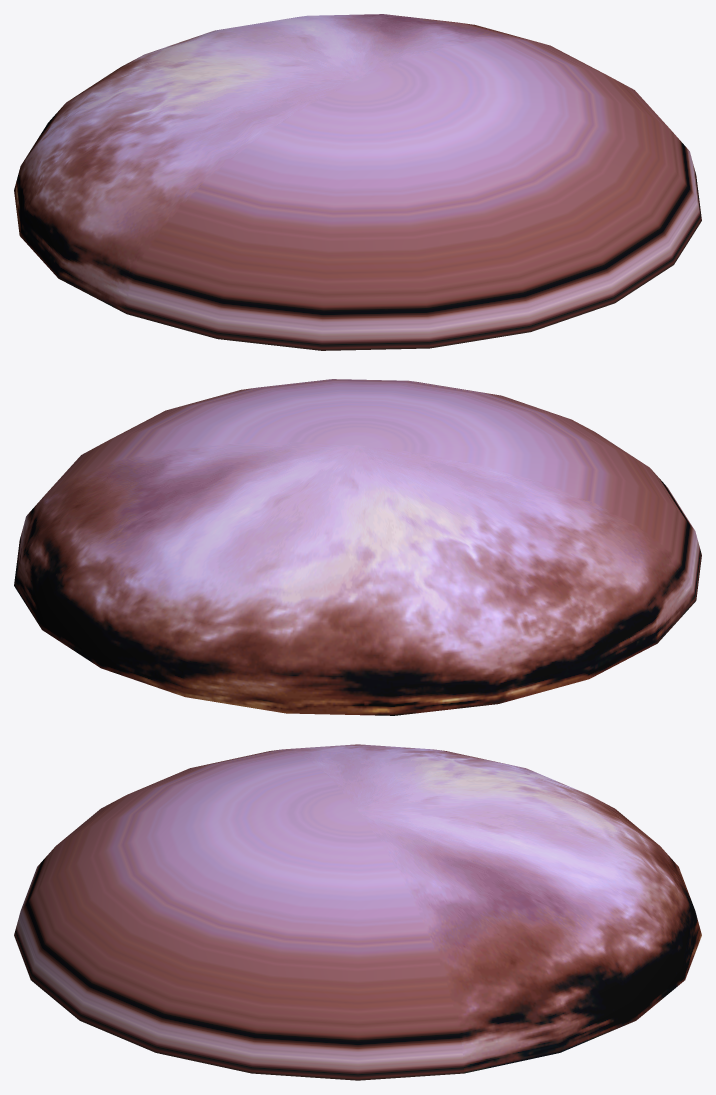
Rendered from Bleach_BankaiStage.fbx.
The picture shows the model from 3 angles, top to bottom: view 1: azimuth 30°, elevation 25°; view 2: azimuth 150°, elevation 25°; view 3: azimuth 270°, elevation 25°; orthographic projection.
Parts seen in each view (by area): view 1: Dome; view 2: Dome; view 3: Dome.
Boxes of the visible parts, box(x1,y1,x2,y2) form: Dome: box(14, 14, 701, 350); Dome: box(14, 379, 701, 715); Dome: box(14, 744, 701, 1080).
Size of the model in its own units: 5512 by 1304 by 5512.
Materials: 10 (10 with a texture image).
